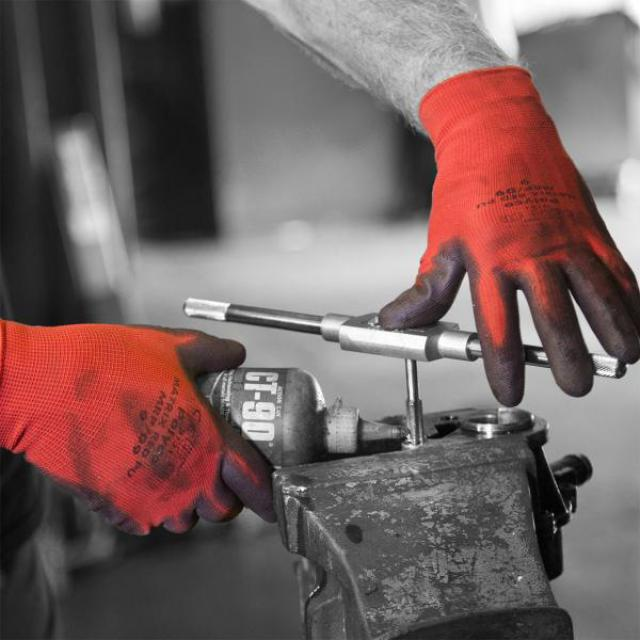gloves: (374, 65, 640, 408), (0, 321, 278, 535)
